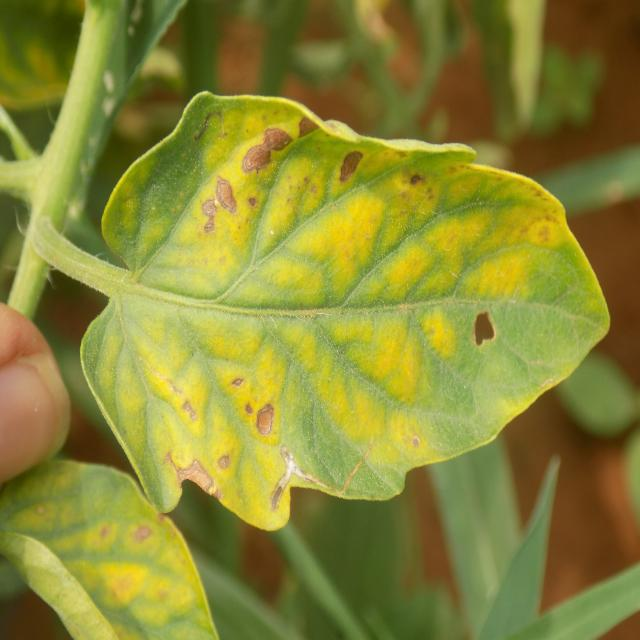tomato_early blight: (87, 90, 607, 531)
